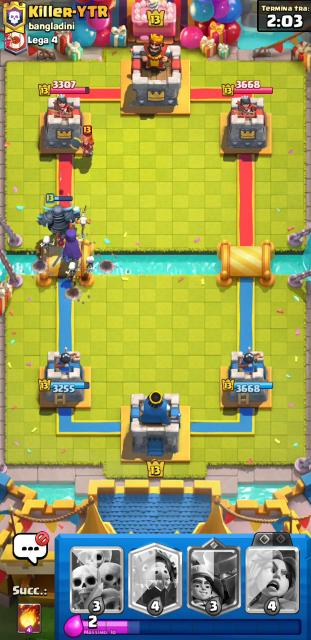ally_melee: (37, 194, 80, 246), (52, 226, 84, 279), (39, 235, 55, 255), (66, 261, 81, 281), (85, 255, 95, 274)
enemy_melee: (75, 125, 94, 159)
